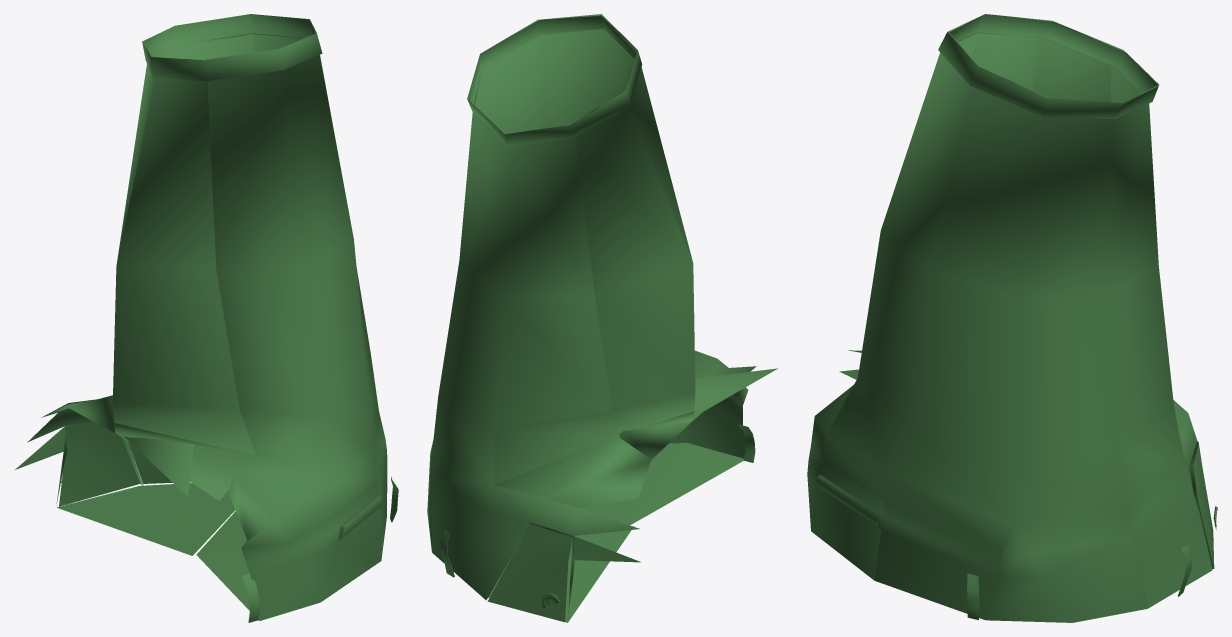
File: right_up_leg.glb
The picture shows the model from 3 angles, left to right: view 1: azimuth 30°, elevation 25°; view 2: azimuth 150°, elevation 25°; view 3: azimuth 270°, elevation 25°; orthographic projection. The views are drawn at different scales.
Visible parts, largest first — view 1: shorts-green_RIGHT_UP_LEG; view 2: shorts-green_RIGHT_UP_LEG; view 3: shorts-green_RIGHT_UP_LEG.
Part boxes in pixels (x1,y1,x2,y2): shorts-green_RIGHT_UP_LEG: [15, 14, 398, 622]; shorts-green_RIGHT_UP_LEG: [427, 14, 777, 622]; shorts-green_RIGHT_UP_LEG: [807, 14, 1217, 622].
Size of the model in its own units: 0.2768 by 0.4844 by 0.3308.
Materials: 1 (1 with a texture image).
